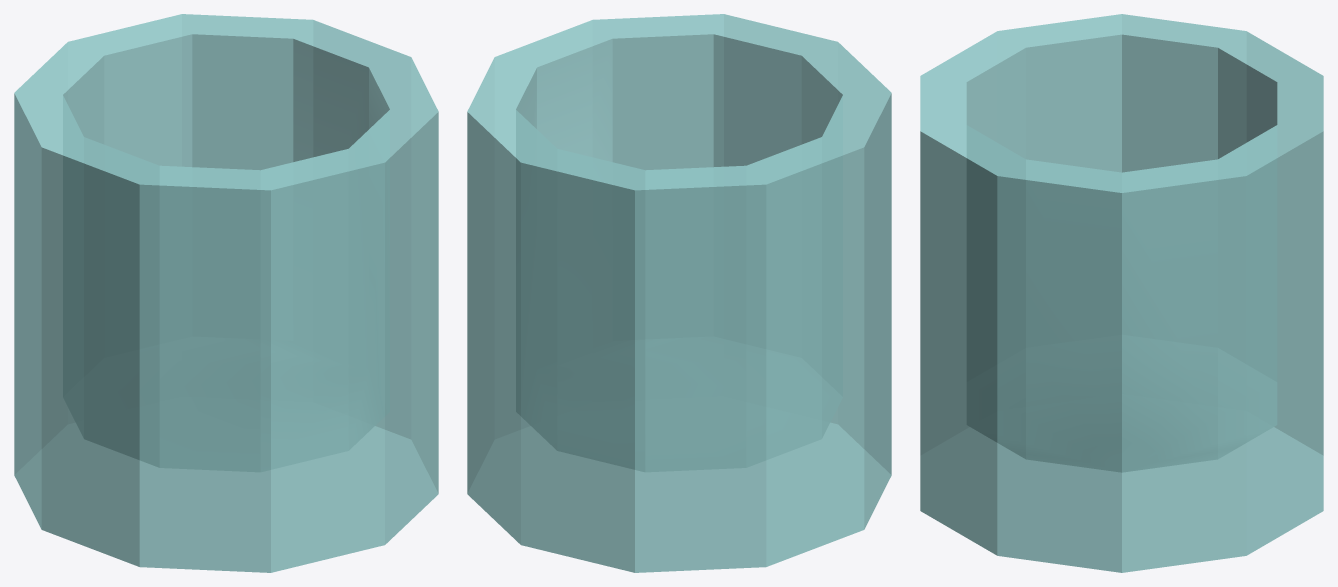
File: COPO colorido.fbx
The picture shows the model from 3 angles, left to right: view 1: azimuth 30°, elevation 25°; view 2: azimuth 150°, elevation 25°; view 3: azimuth 270°, elevation 25°; orthographic projection.
Visible parts, largest first — view 1: pCylinder1; view 2: pCylinder1; view 3: pCylinder1.
Part boxes in pixels (left/top/right/bottom): pCylinder1: left=14, top=14, right=438, bottom=572; pCylinder1: left=467, top=14, right=891, bottom=572; pCylinder1: left=920, top=14, right=1323, bottom=572.
Bounding box in the file's own units: 2 × 1.98 × 1.9.
